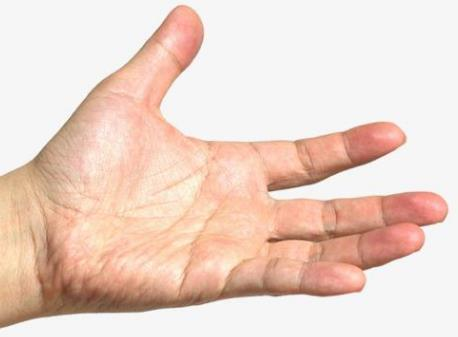down: (50, 5, 449, 324)
